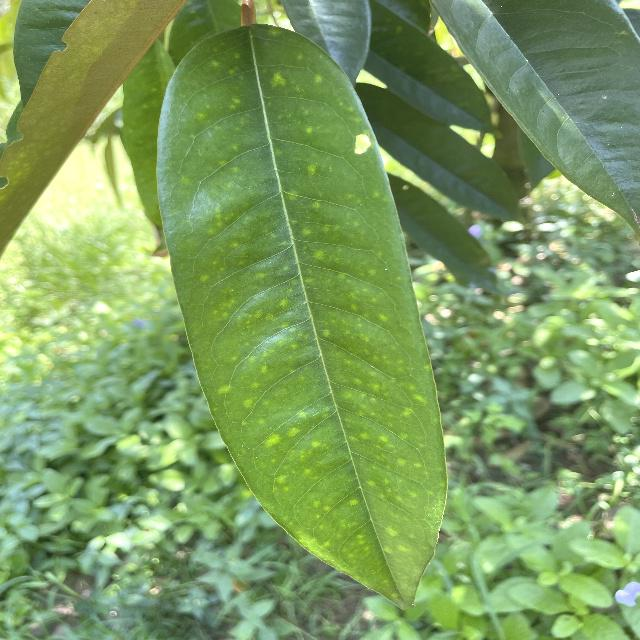Leaf Spot: (151, 9, 453, 609)
